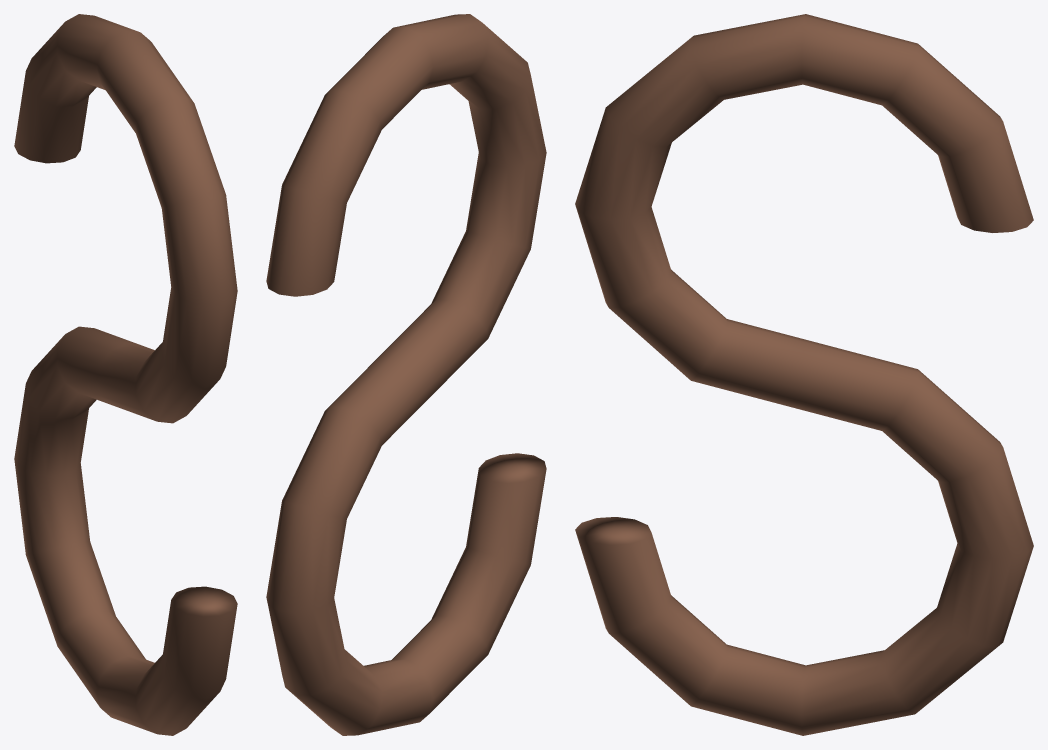
File: Kitchen_set_Kitchen_set_Kitchen_set_Props_grp_Kitchen_set_North_grp_Kitchen_set_NorthWall_grp_Kitchen_set_Hook_5.obj
3 views of the same model, side by side, from view 1: azimuth 30°, elevation 25°; view 2: azimuth 150°, elevation 25°; view 3: azimuth 270°, elevation 25° (orthographic). The views are drawn at different scales.
Parts seen in each view (by area): view 1: Kitchen_set_Hook1 NCCA_Export; view 2: Kitchen_set_Hook1 NCCA_Export; view 3: Kitchen_set_Hook1 NCCA_Export.
Boxes of the visible parts, x1,y1,x2,y2 form: Kitchen_set_Hook1 NCCA_Export: [14, 14, 237, 735]; Kitchen_set_Hook1 NCCA_Export: [266, 14, 546, 735]; Kitchen_set_Hook1 NCCA_Export: [575, 14, 1033, 735].
Size of the model in its own units: 0.1256 by 1 by 0.5804.
